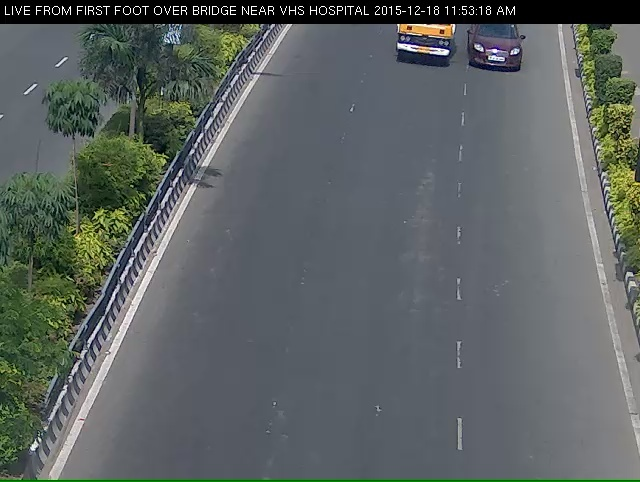Car: (465, 23, 534, 91), (389, 20, 456, 77)
